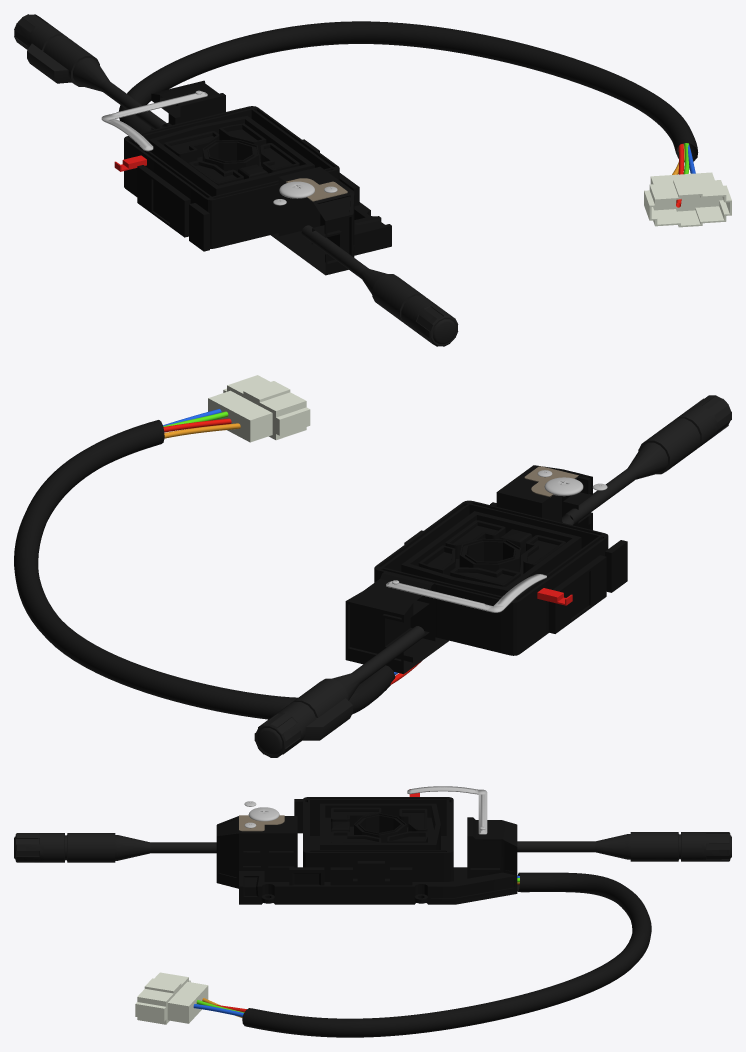
The model's file is saklar-kombinasi.glb.
The picture shows the model from 3 angles, top to bottom: view 1: azimuth 30°, elevation 25°; view 2: azimuth 150°, elevation 25°; view 3: azimuth 270°, elevation 25°; orthographic projection. The views are drawn at different scales.
Parts seen in each view (by area): view 1: NurbsCurve.CBL.BIG, Cube, Plane, Cylinder.002, connector, Cylinder, Cube.010, Plane.002, Cube.006, Cylinder.001, Cube.009, Cube.004 (+3 smaller); view 2: Cube, NurbsCurve.CBL.BIG, Plane, Cylinder.002, Cylinder, connector, Cube.010, Plane.002, Cylinder.001, Cube.009, Cube.004, Cube.006 (+3 smaller); view 3: Plane, NurbsCurve.CBL.BIG, Cube, Cylinder, Cylinder.002, connector, Cube.002, Plane.002, Cube.001, Cube.005, Cube.006, Cube.004 (+2 smaller).
Boxes of the visible parts, box(x1,y1,x2,y2) form: NurbsCurve.CBL.BIG: box(119, 21, 698, 162); Cube: box(124, 106, 339, 248); Plane: box(151, 80, 391, 275); Cylinder.002: box(301, 225, 458, 346); connector: box(644, 172, 731, 227); Cylinder: box(14, 14, 169, 129); Cube.010: box(137, 165, 190, 237); Plane.002: box(101, 91, 207, 151); Cube.006: box(164, 131, 219, 163); Cylinder.001: box(27, 43, 71, 83); Cube.009: box(189, 203, 209, 251); Cube.004: box(260, 143, 299, 173); Cube: box(374, 500, 608, 655); NurbsCurve.CBL.BIG: box(14, 420, 395, 719); Plane: box(345, 465, 592, 674); Cylinder.002: box(562, 395, 731, 525); Cylinder: box(254, 626, 424, 757); connector: box(208, 375, 310, 442); Cube.010: box(548, 555, 606, 633); Plane.002: box(386, 574, 546, 612); Cylinder.001: box(302, 698, 352, 740); Cube.009: box(605, 540, 627, 592); Cube.004: box(445, 520, 505, 558); Cube.006: box(450, 567, 520, 586); Plane: box(216, 816, 517, 904); NurbsCurve.CBL.BIG: box(242, 872, 651, 1037); Cube: box(303, 797, 453, 881); Cylinder: box(517, 832, 731, 861); Cylinder.002: box(14, 833, 216, 862); connector: box(135, 972, 208, 1024); Cube.002: box(330, 861, 412, 885); Plane.002: box(407, 786, 487, 834); Cube.001: box(289, 867, 324, 885); Cube.005: box(331, 807, 381, 826); Cube.006: box(399, 808, 427, 831); Cube.004: box(331, 831, 381, 842).
Size of the model in its own units: 1.81 by 0.2897 by 2.58.
